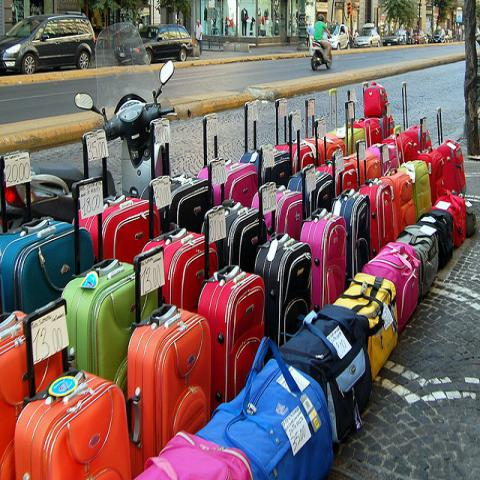car: (0, 10, 96, 76), (114, 25, 193, 64), (327, 25, 350, 51), (354, 29, 381, 49), (382, 30, 405, 47), (408, 28, 429, 46), (432, 29, 446, 43), (445, 30, 454, 42)
motorcycle: (74, 60, 176, 205), (312, 41, 332, 70)
